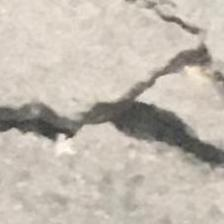Crack: (0, 60, 224, 181)
